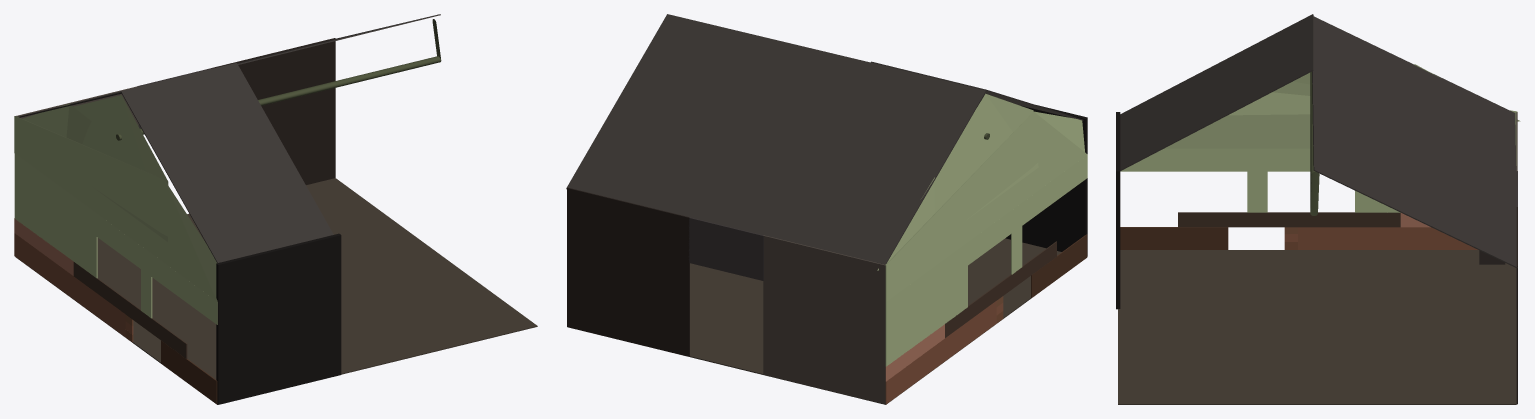
File: factor.fbx
3 renders of one model, left to right at view 1: azimuth 30°, elevation 25°; view 2: azimuth 150°, elevation 25°; view 3: azimuth 270°, elevation 25°, orthographic.
Parts seen in each view (by area): view 1: Cube.018, Cube.020, Cube.012, Cube.010, Cube.015, Cube.006, Cube.011, Cube.005, Cube, Cube.001, Cylinder, Cube.002 (+3 smaller); view 2: Cube.021, Cube.015, Cube.013, Cube.010, Cube.018, Cube.006, Cube.011, Cube.016, Cube.012, Cube.005, Cube, Cube.001 (+4 smaller); view 3: Cube.018, Cube.021, Cube.020, Cube.010, Cube.005, Cube, Cube.001, Cube.002, Cube.012, Cube.004, Cylinder, Cube.006 (+2 smaller).
Boxes of the visible parts, box(x1,y1,x2,y2) form: Cube.018: box(16, 178, 537, 404); Cube.020: box(120, 63, 333, 262); Cube.012: box(216, 233, 341, 404); Cube.010: box(14, 116, 217, 301); Cube.015: box(212, 38, 335, 184); Cube.006: box(14, 154, 97, 278); Cube.011: box(22, 95, 168, 241); Cube.005: box(96, 214, 217, 324); Cube: box(14, 233, 125, 337); Cube.001: box(73, 262, 187, 358); Cylinder: box(116, 19, 441, 140); Cube.002: box(161, 340, 217, 404); Cube.021: box(566, 14, 986, 264); Cube.015: box(567, 187, 689, 356); Cube.013: box(763, 235, 885, 404); Cube.010: box(885, 111, 1087, 301); Cube.018: box(571, 238, 1061, 404); Cube.006: box(885, 242, 967, 366); Cube.011: box(877, 93, 1038, 270); Cube.016: box(688, 217, 763, 280); Cube.012: box(977, 97, 1087, 256); Cube.005: box(968, 155, 1087, 265); Cube: box(885, 301, 996, 404); Cube.001: box(945, 241, 1056, 337); Cube.018: box(1118, 250, 1516, 404); Cube.021: box(1312, 16, 1517, 268); Cube.020: box(1120, 14, 1313, 170); Cube.010: box(1164, 92, 1517, 148); Cube.005: box(1120, 148, 1310, 171); Cube: box(1298, 227, 1477, 249); Cube.001: box(1178, 212, 1400, 227); Cube.002: box(1120, 227, 1228, 249); Cube.012: box(1116, 112, 1120, 309); Cube.004: box(1247, 171, 1267, 212); Cylinder: box(1310, 71, 1319, 215); Cube.006: box(1355, 149, 1516, 212).
Bounding box in the file's own units: 12103 × 8628 × 13309.
